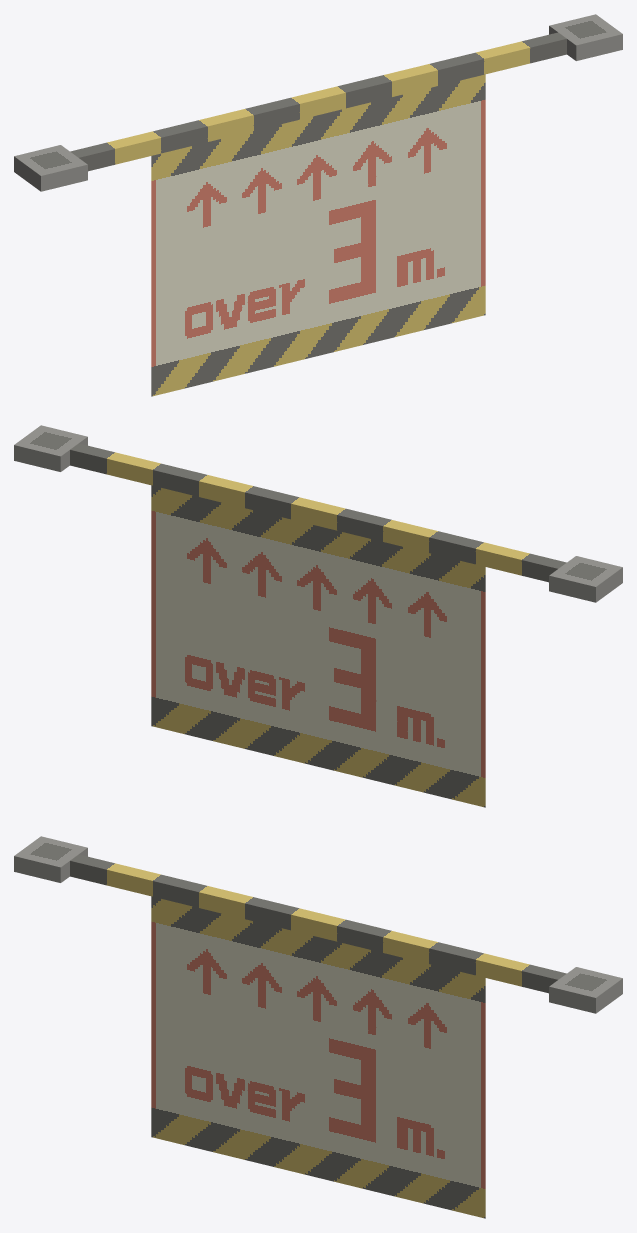
Rendered from 033f_Over_3m_Sign.glb.
3 renders of one model, top to bottom at view 1: azimuth 30°, elevation 25°; view 2: azimuth 150°, elevation 25°; view 3: azimuth 330°, elevation 25°, orthographic.
Visible parts, largest first — view 1: part_0; view 2: part_0; view 3: part_0.
Boxes of the visible parts, x1,y1,x2,y2 form: part_0: [14, 14, 622, 396]; part_0: [14, 425, 622, 807]; part_0: [14, 836, 622, 1218].
Bounding box in the file's own units: 2.61 × 1.12 × 0.21.
1 material, 1 textured.
